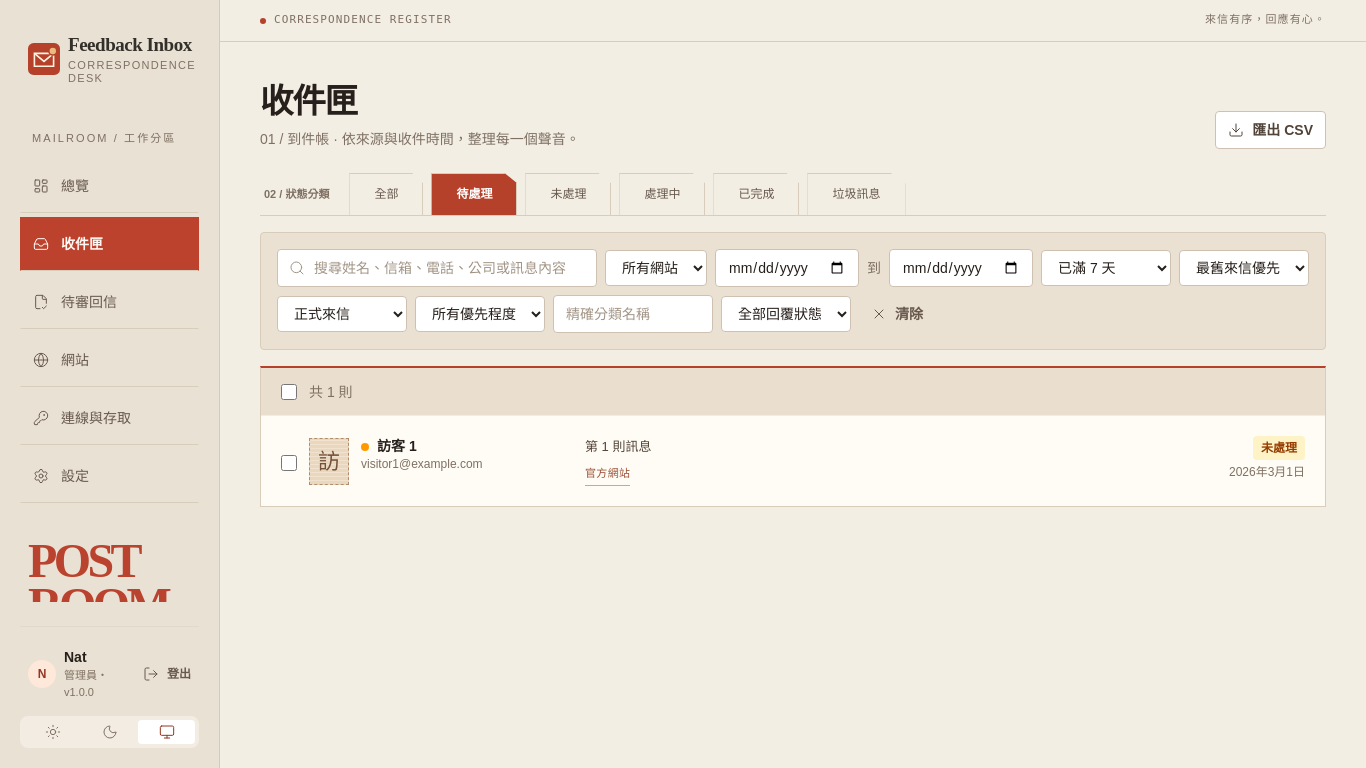
Test: age drilldown keeps API and CSV filters and clear removes them
Expected: the text "第 1 則訊息" is shown, [585,439,652,454]
Select "未滿 24 小時" in the dropdown named "收到多久" at (1106, 268), box [1041,250,1171,286]
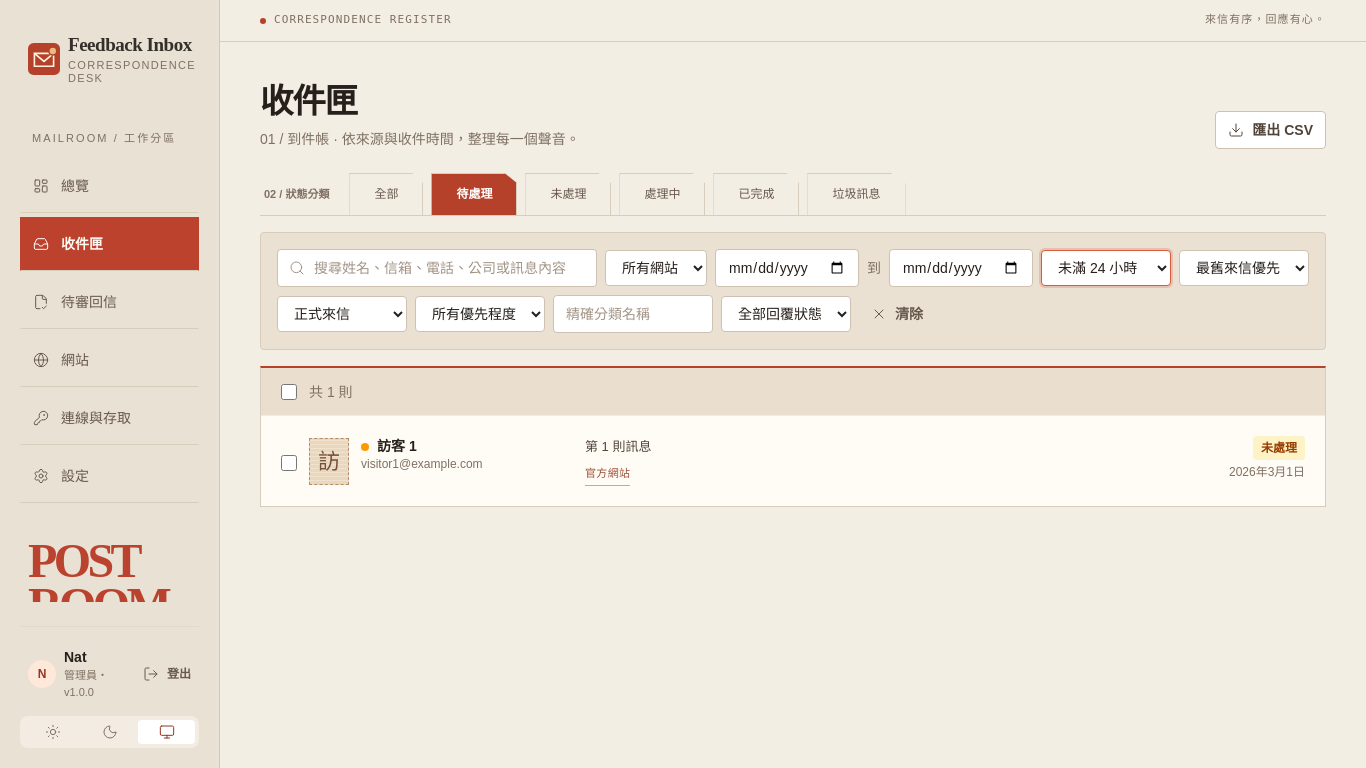
Click the button "清除".
click(897, 314)  # box [859,296,935,332]
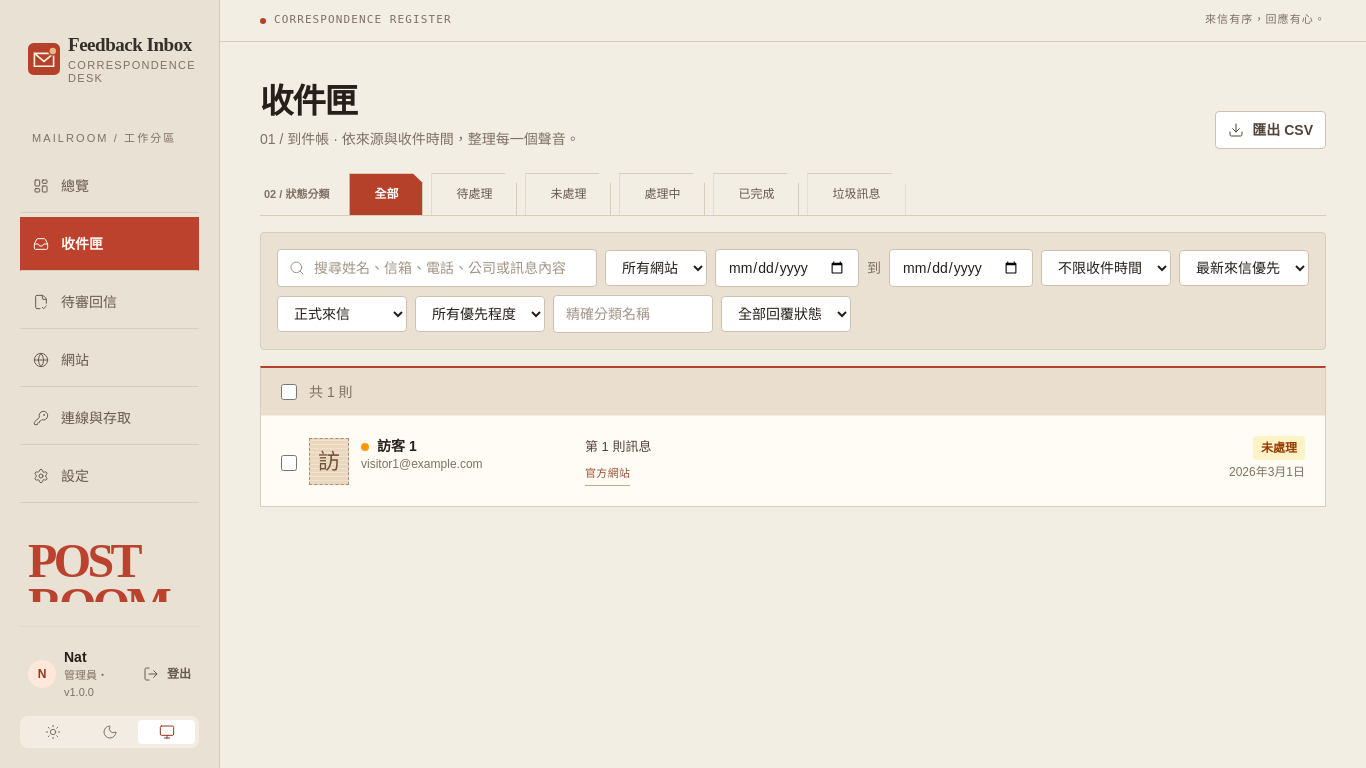
Expected: the dropdown named "排序" shows "最新來信優先", [1179,250,1309,286]
